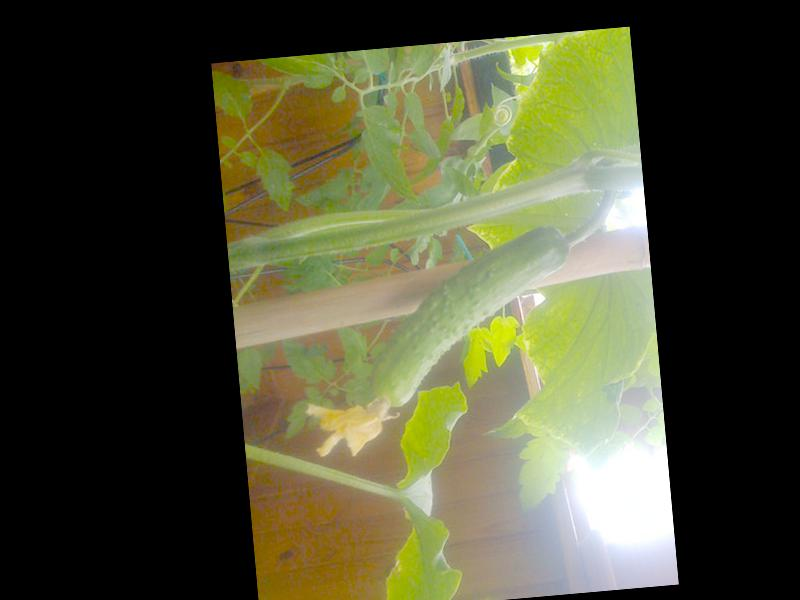Cucumber: (291, 225, 584, 462)
